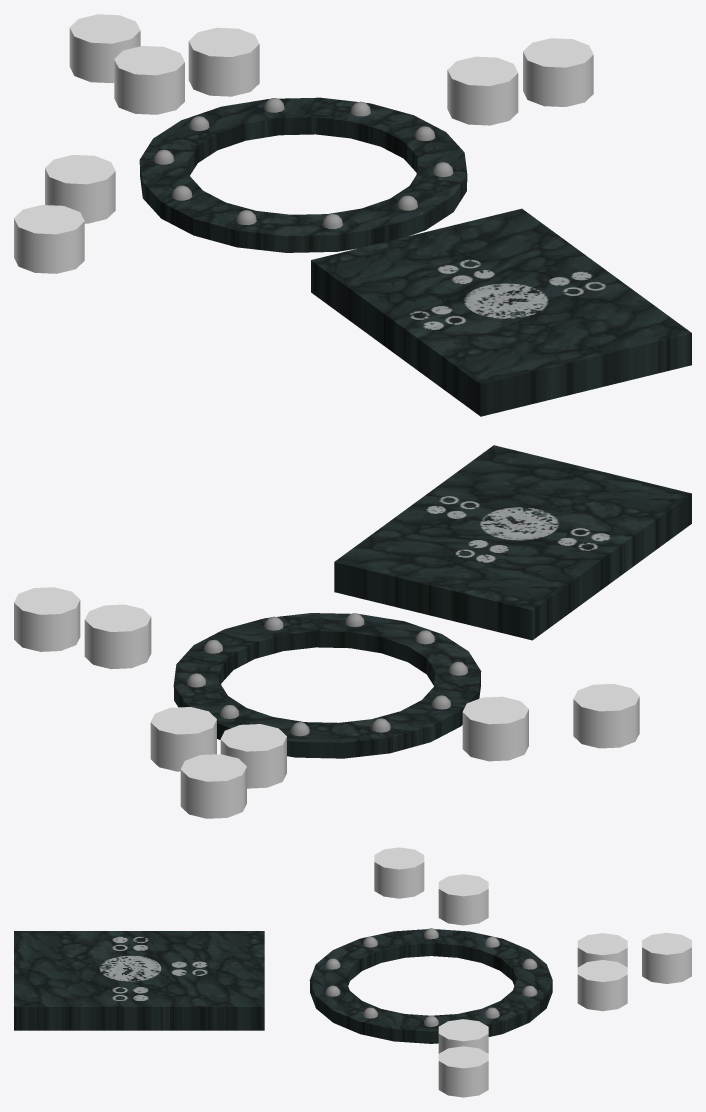
Rendered from Hinted portal destroyed.FBX.
3 renders of one model, top to bottom at view 1: azimuth 30°, elevation 25°; view 2: azimuth 150°, elevation 25°; view 3: azimuth 270°, elevation 25°, orthographic. The views are drawn at different scales.
Parts seen in each view (by area): view 1: Object002, Cylinder001, Cylinder010, Cylinder008, Cylinder013, Cylinder007, Cylinder002, Cylinder004, Cylinder012, Object001; view 2: Object002, Cylinder001, Cylinder008, Cylinder004, Cylinder012, Cylinder007, Cylinder002, Cylinder010, Cylinder013, Object001; view 3: Object002, Cylinder001, Cylinder007, Cylinder002, Cylinder004, Cylinder010, Cylinder012, Object001, Cylinder008, Cylinder013.
Part boxes in pixels (x1,y1,x2,y2): Object002: (311, 208, 691, 416); Cylinder001: (139, 97, 467, 252); Cylinder010: (188, 27, 259, 96); Cylinder008: (447, 56, 518, 125); Cylinder013: (114, 46, 184, 114); Cylinder007: (523, 38, 593, 106); Cylinder002: (14, 205, 84, 273); Cylinder004: (45, 155, 115, 223); Cylinder012: (69, 14, 140, 83); Object001: (153, 98, 453, 228); Object002: (334, 445, 691, 640); Cylinder001: (173, 613, 481, 758); Cylinder008: (84, 604, 151, 669); Cylinder004: (462, 696, 528, 761); Cylinder012: (180, 754, 246, 818); Cylinder007: (14, 587, 80, 651); Cylinder002: (573, 683, 639, 748); Cylinder010: (150, 707, 216, 771); Cylinder013: (220, 724, 286, 788); Object001: (186, 613, 467, 736); Object002: (14, 931, 264, 1030); Cylinder001: (309, 929, 552, 1043); Cylinder007: (438, 1046, 488, 1097); Cylinder002: (374, 847, 424, 898); Cylinder004: (438, 874, 488, 925); Cylinder010: (577, 960, 627, 1011); Cylinder012: (642, 932, 691, 983); Object001: (325, 928, 537, 1026); Cylinder008: (438, 1019, 488, 1053); Cylinder013: (577, 933, 627, 967).
Size of the model in its own units: 244 by 18.01 by 316.
